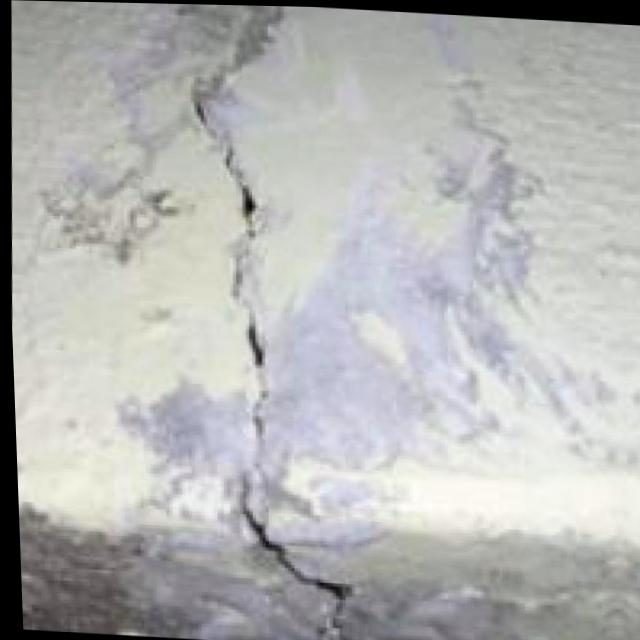Crack: (145, 47, 395, 624)
